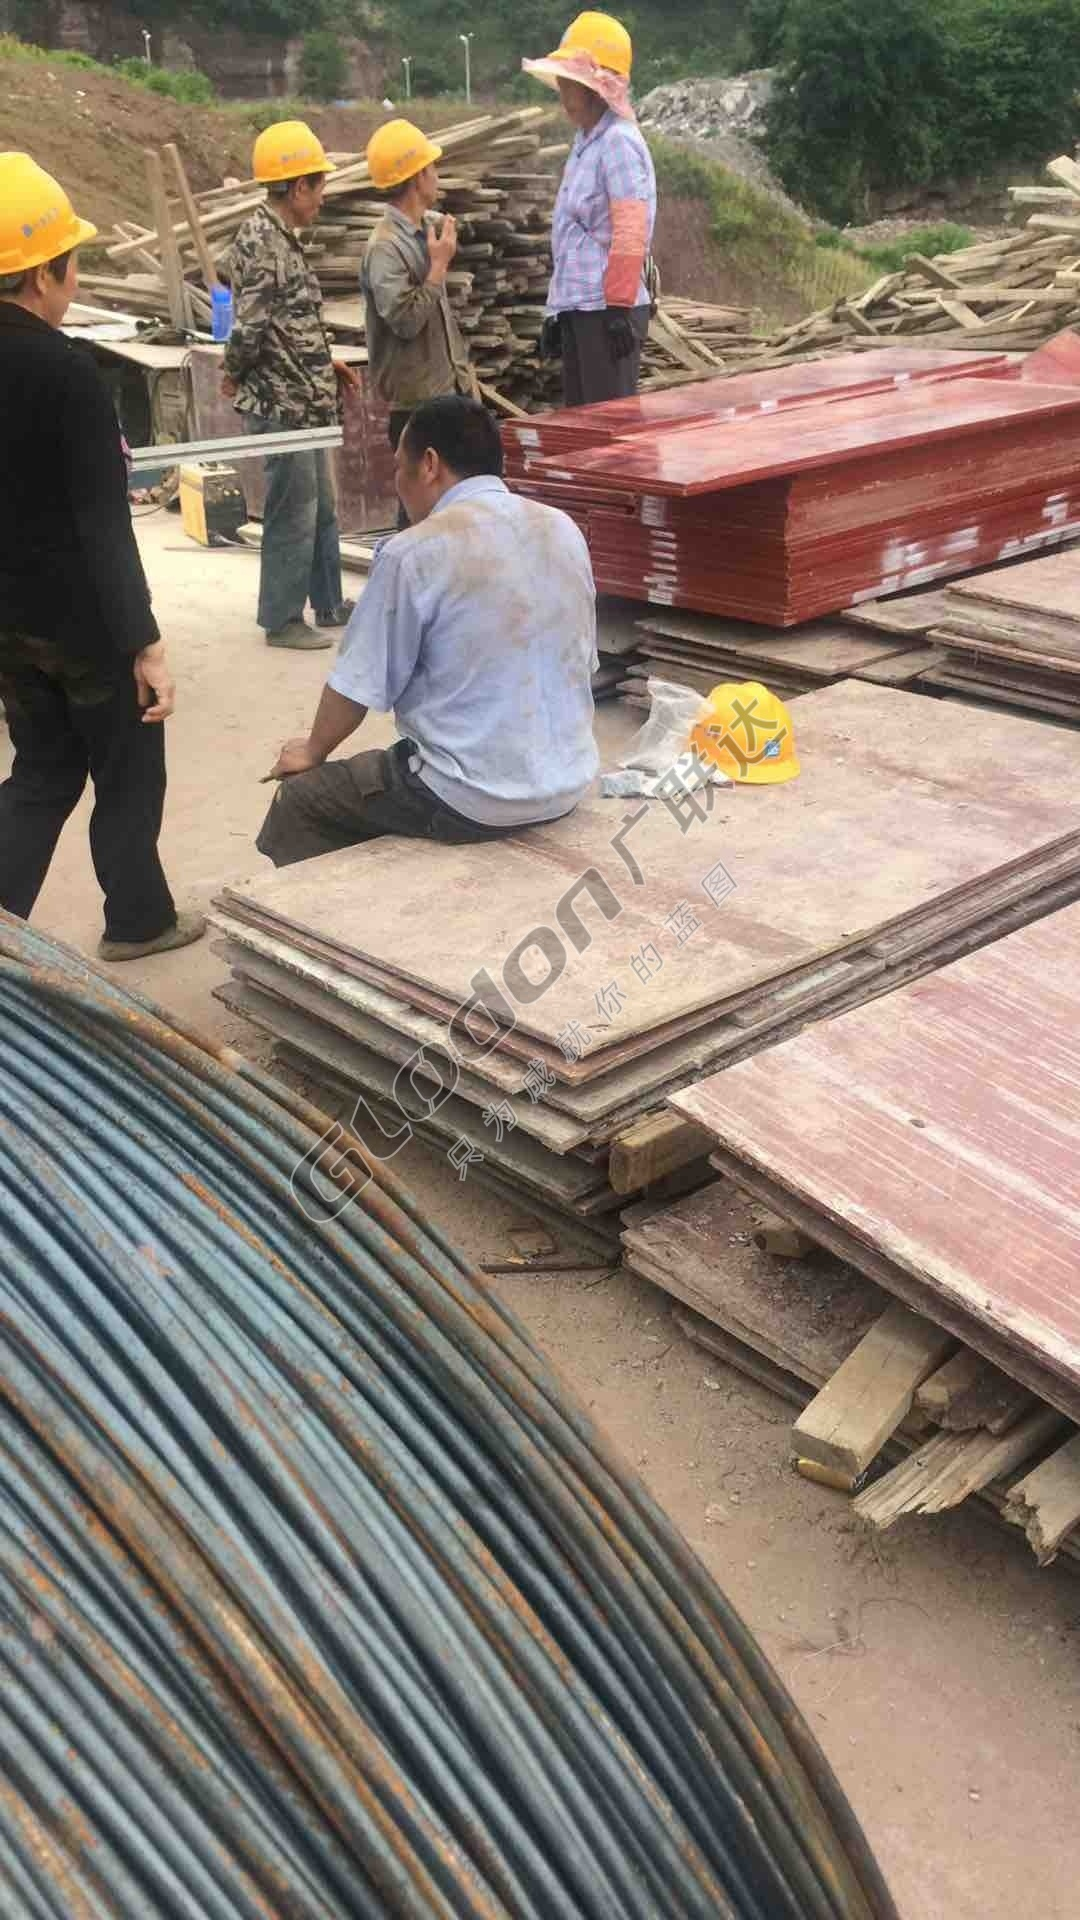none: (382, 384, 509, 526)
yellow: (3, 141, 86, 343), (357, 105, 451, 229), (549, 9, 640, 129), (243, 112, 335, 225)
